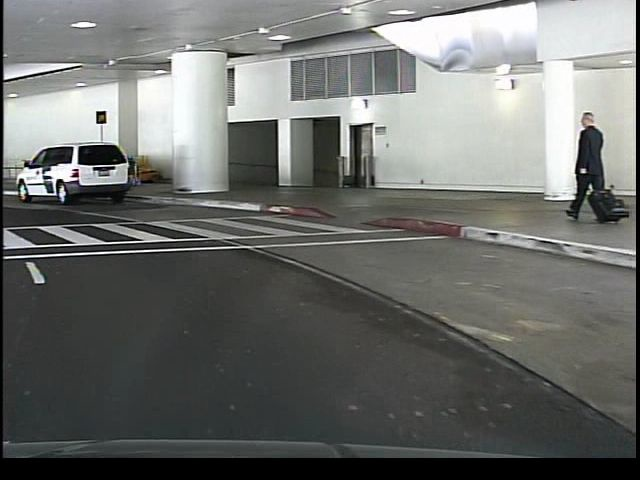person: (566, 103, 603, 226)
